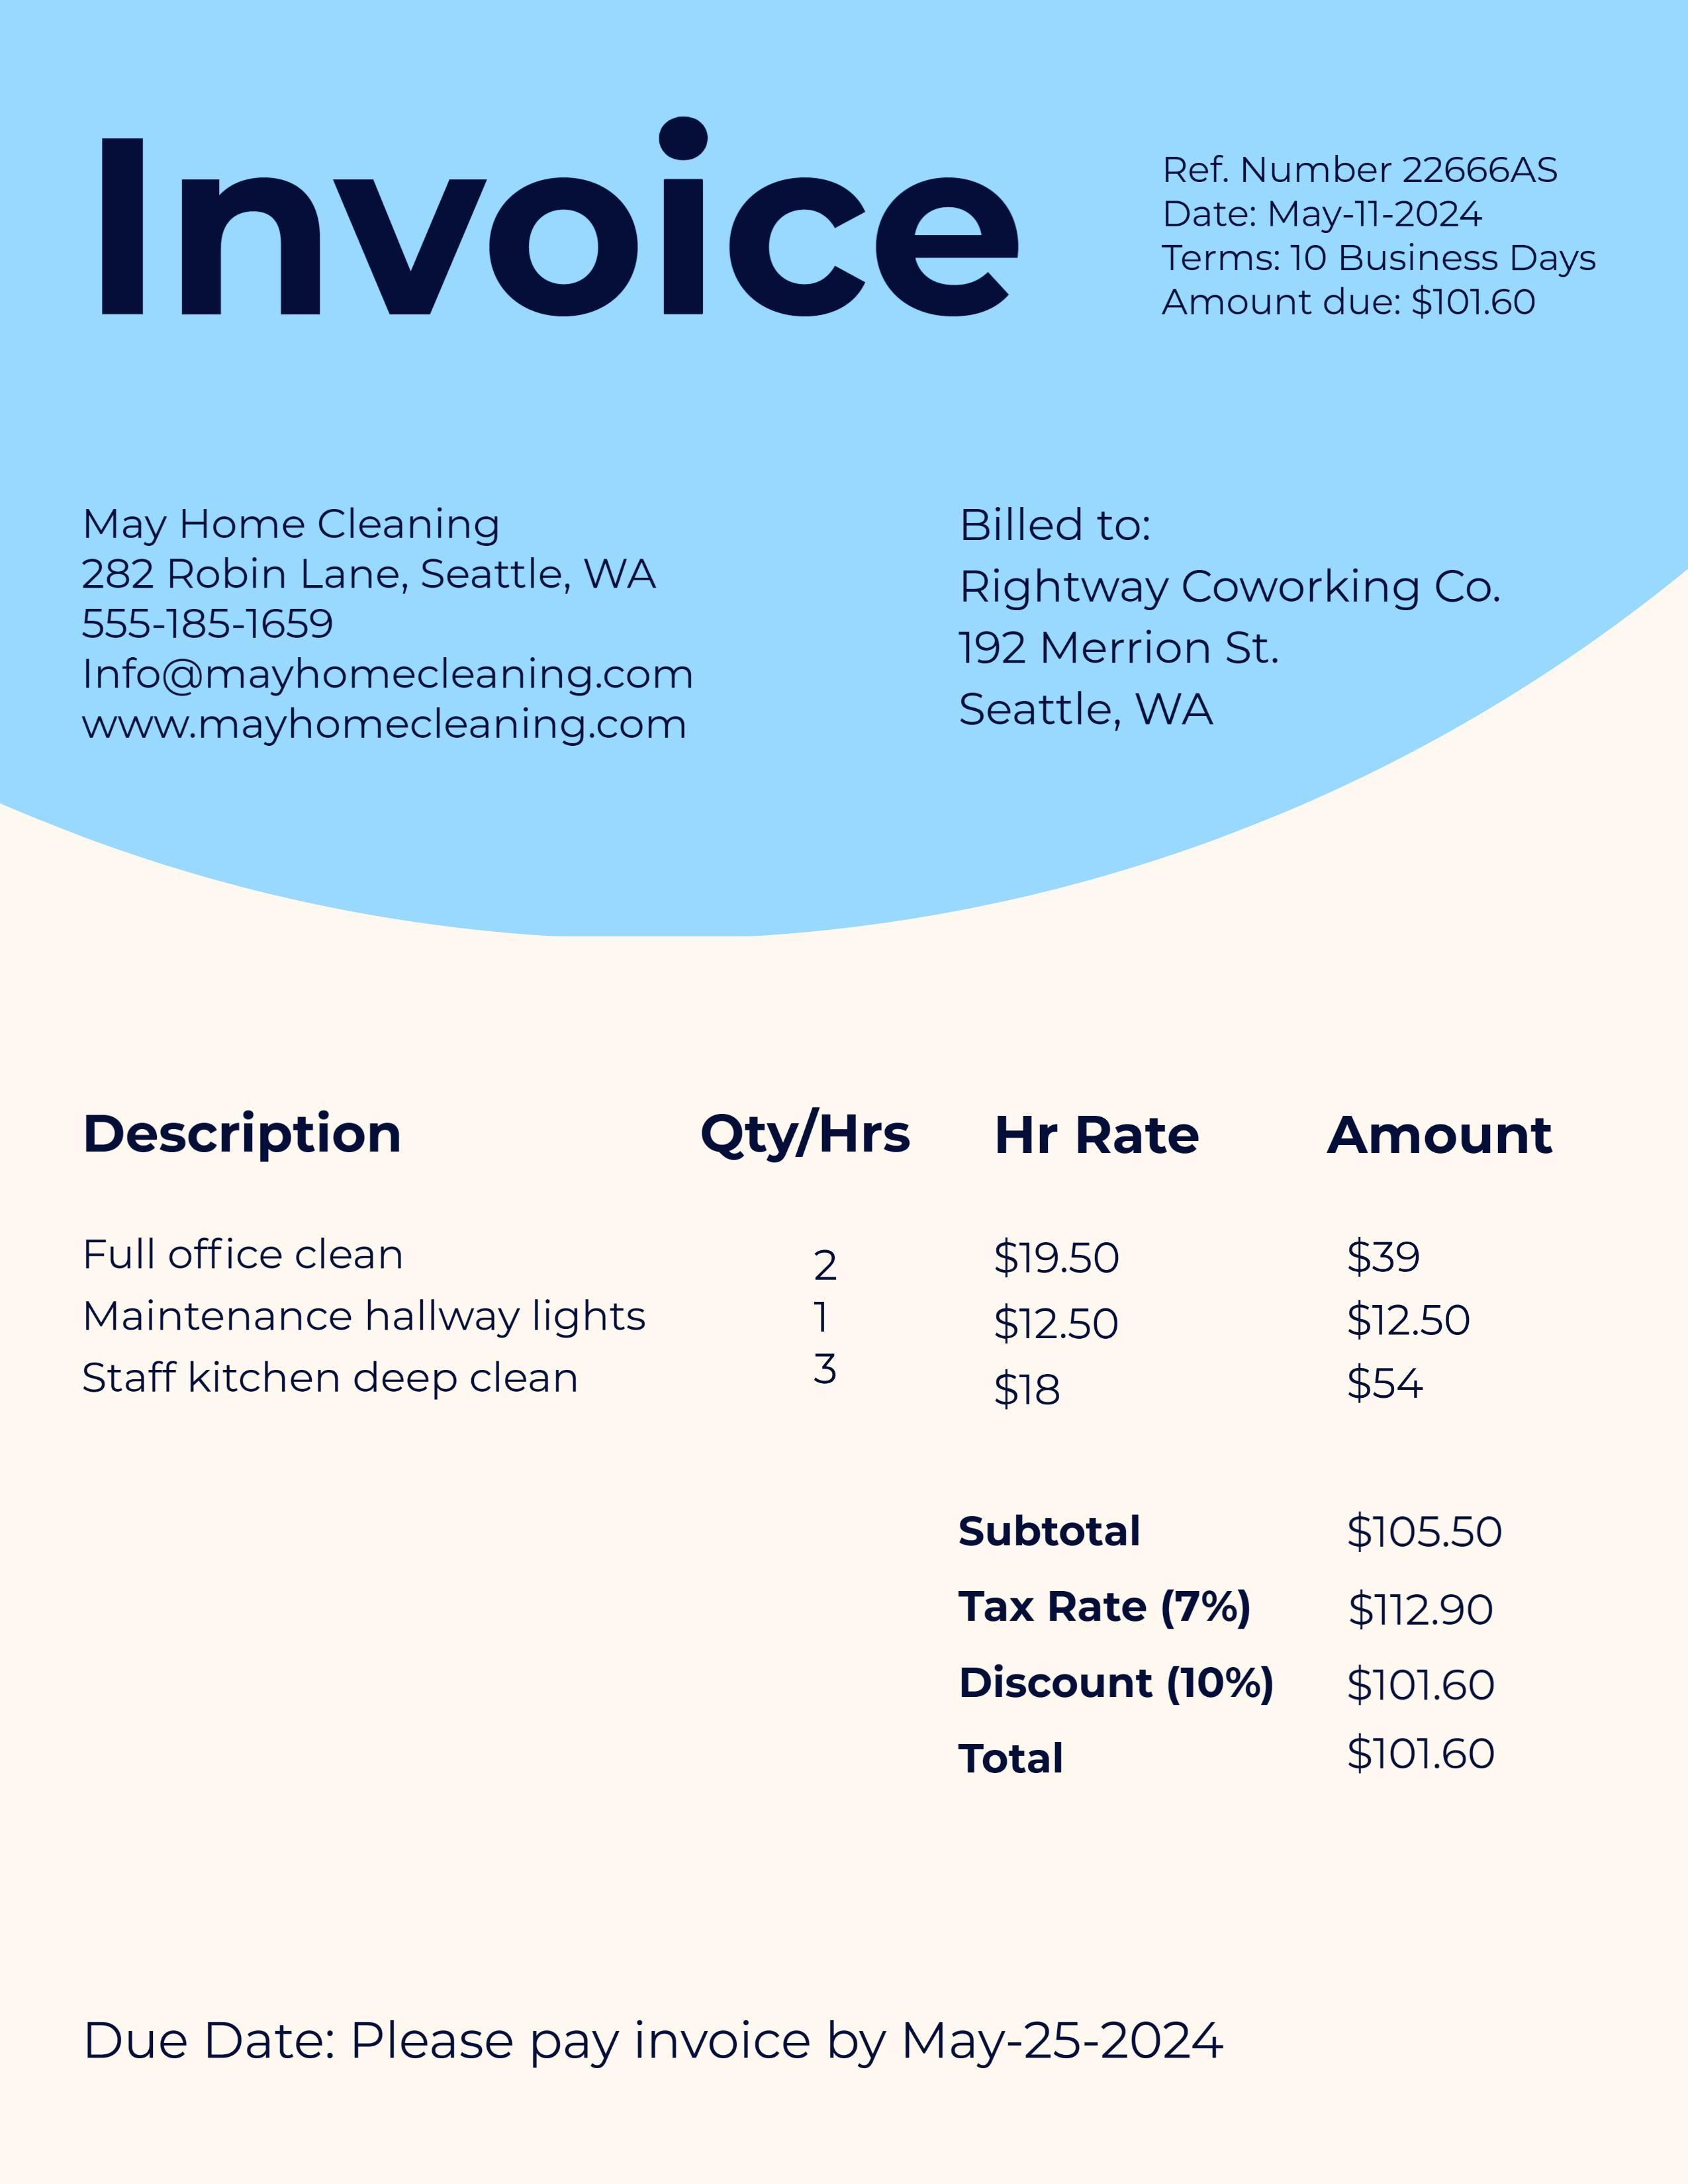ROI: (71, 1106, 1573, 1409), (67, 495, 731, 748), (945, 1509, 1512, 1783), (950, 502, 1532, 730), (78, 2000, 1248, 2092), (1147, 129, 1615, 331)
